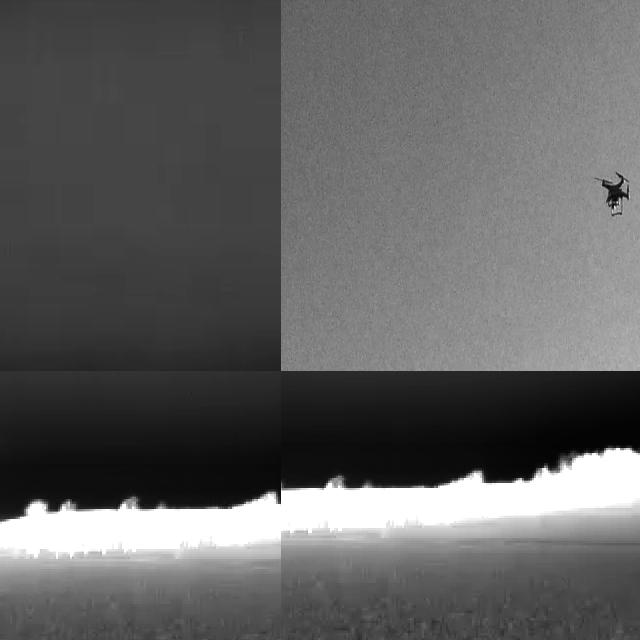1: (0, 429, 8, 464)
drone: (598, 168, 633, 226)
